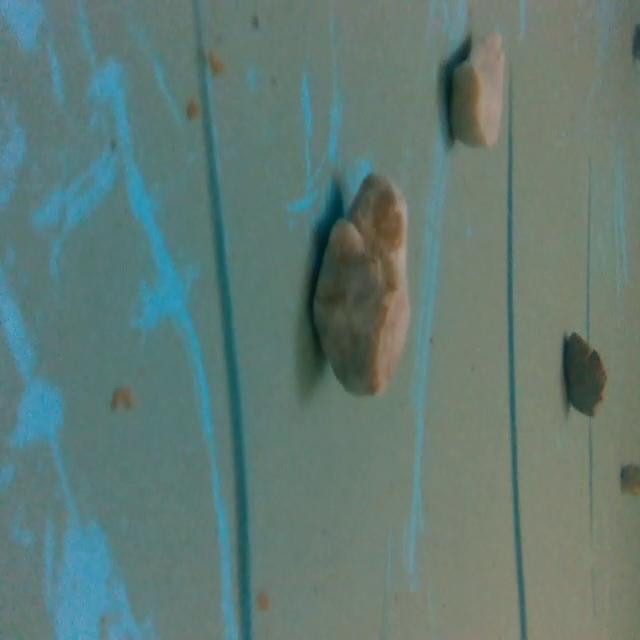rock: (307, 165, 422, 401), (441, 20, 515, 146), (552, 329, 617, 427)
